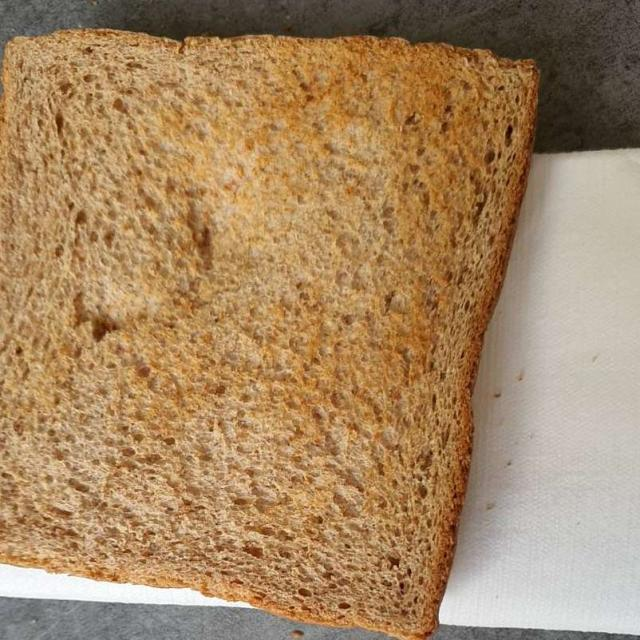bread-wholemeal-toast: (6, 34, 532, 623)
